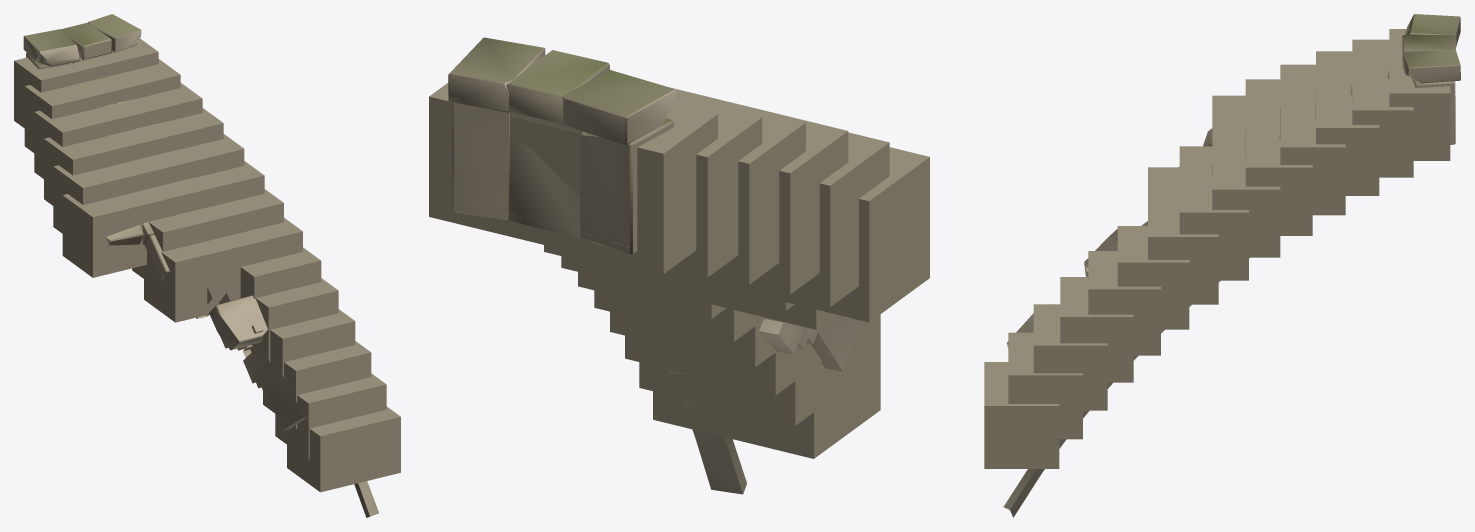
Rendered from dome_shell_bp1.glb.
3 views of the same model, side by side, from view 1: azimuth 30°, elevation 25°; view 2: azimuth 150°, elevation 25°; view 3: azimuth 270°, elevation 25° (orthographic). The views are drawn at different scales.
Parts seen in each view (by area): view 1: dome_shell_bp1_far, dome_shell_bp1; view 2: dome_shell_bp1_far, dome_shell_bp1; view 3: dome_shell_bp1_far, dome_shell_bp1.
Part boxes in pixels (x1,y1,x2,y2): dome_shell_bp1_far: (14,38,400,492); dome_shell_bp1: (23,14,378,517); dome_shell_bp1_far: (429,83,929,458); dome_shell_bp1: (448,37,863,494); dome_shell_bp1_far: (984,29,1450,468); dome_shell_bp1: (1003,14,1460,517).
Bounding box in the file's own units: 14.59 × 25 × 27.39.
